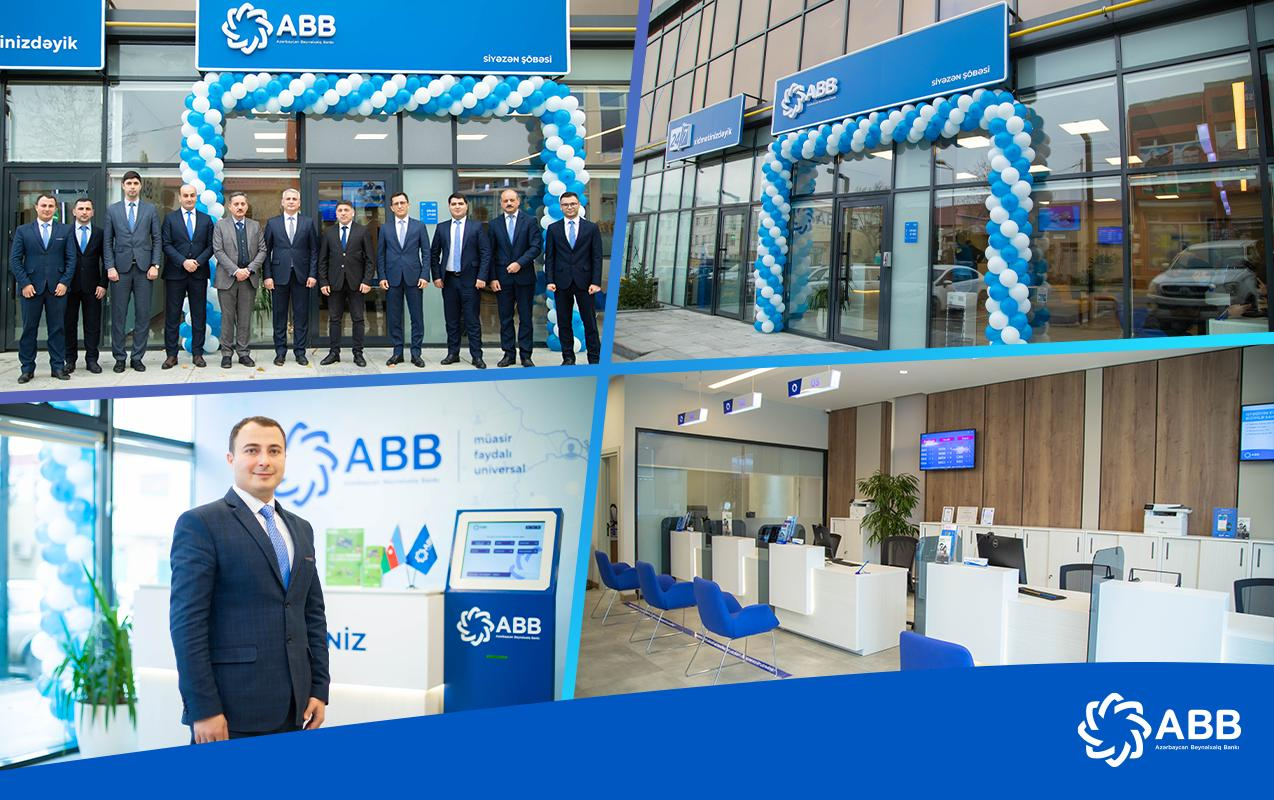ABB: (1076, 691, 1153, 768), (273, 421, 340, 509), (220, 0, 274, 56), (455, 605, 496, 648), (779, 81, 806, 119)
